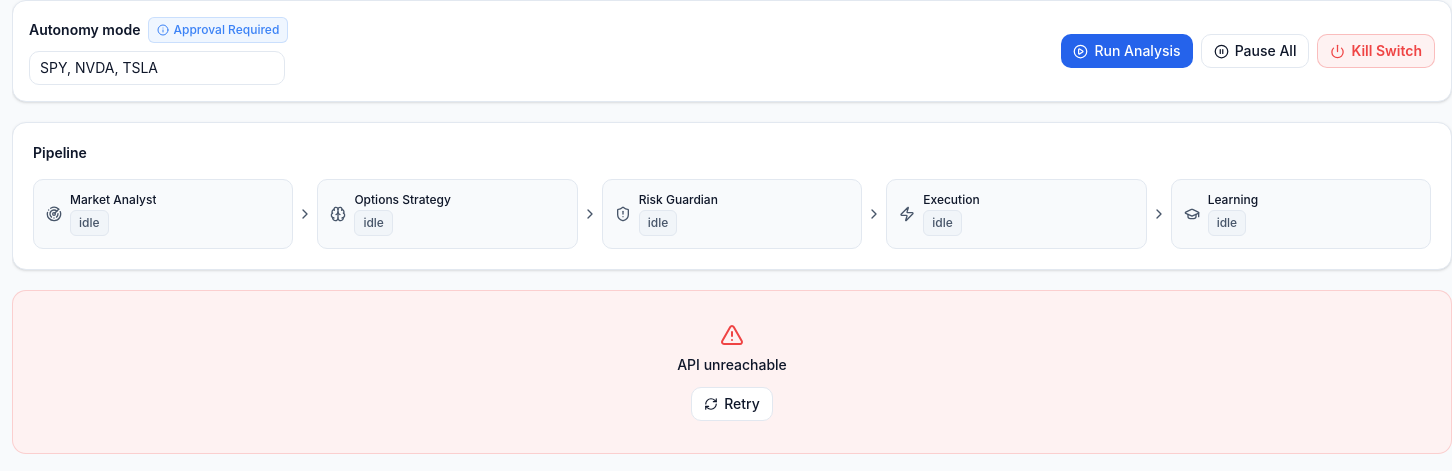
Test: AgentsPage loading/empty/error states › renders inline retry with the error message when the fetch fails, and recovers on retry
Click the button "Retry" at [732, 404], box [691,387,773,421]
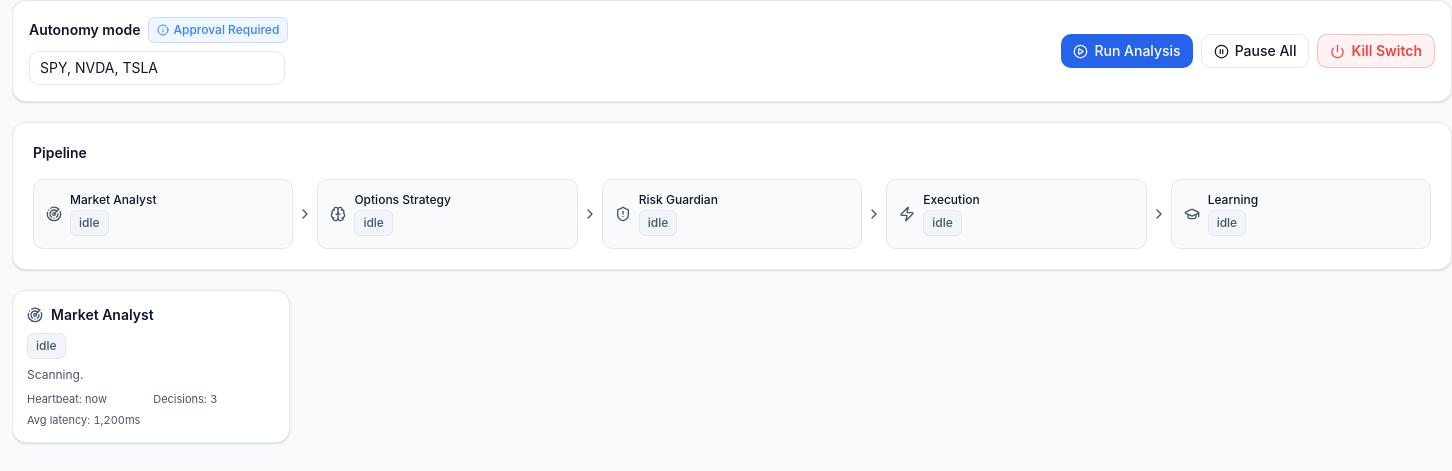
Now the text "API unreachable" is gone
Now the text "Scanning." is shown, box [27,367,83,382]
